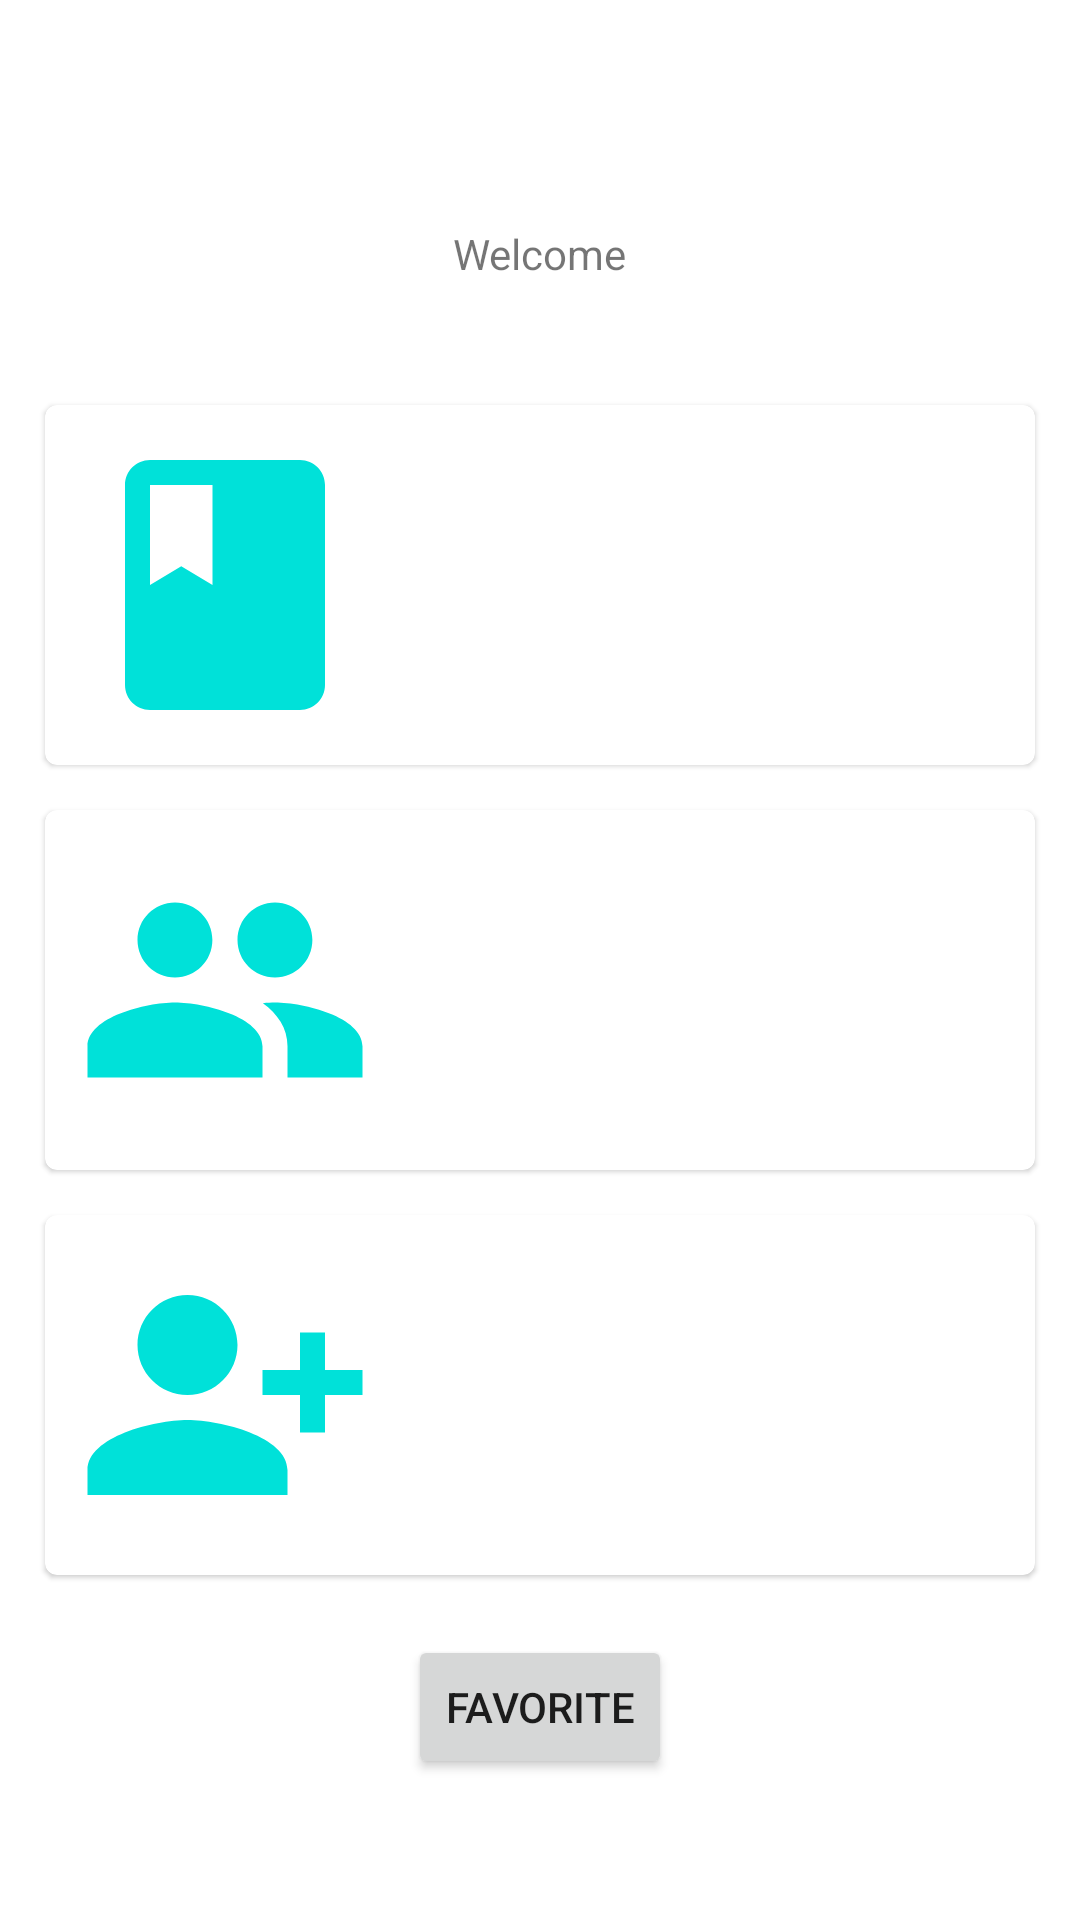

Where icons sit on this 1080*1920 app screen, as (x1, y1, x2, y2):
Following number: (87, 1295, 363, 1495)
Number of followers: (87, 902, 363, 1078)
Number of repos: (125, 460, 325, 710)
